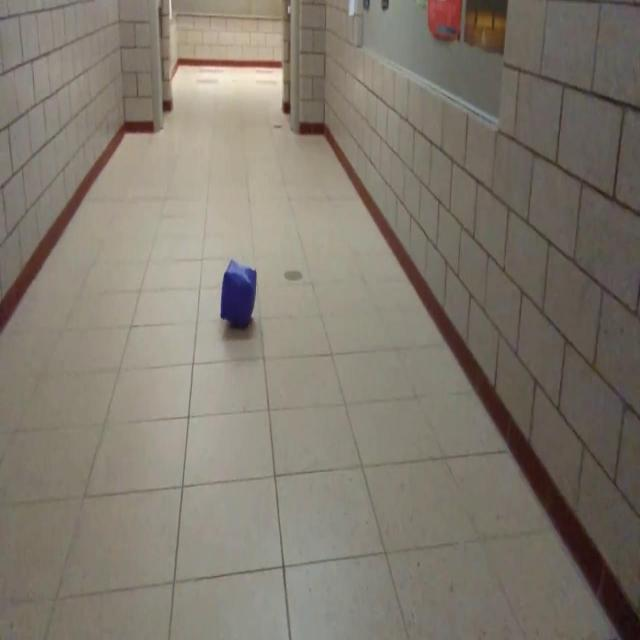frc_cube: (220, 258, 258, 332)
